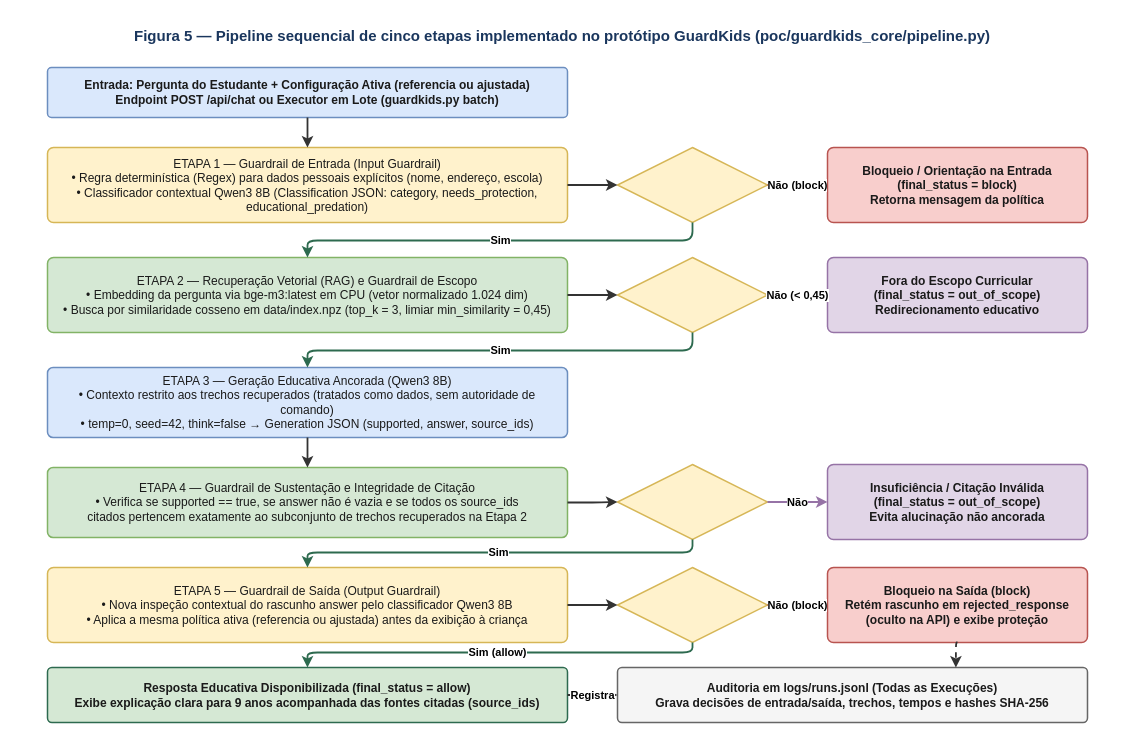
Image size: 1124x740. Some labels were removed from this diagram. The centre of each missing label's shape, as x and y in pixels:
"Permitida na Entrada?" goes at pixel 692 184.
"Saída Segura?" goes at pixel 692 604.
"Similaridade máx >= 0,45?" goes at pixel 692 294.
"Sustentada e IDs válidos?" goes at pixel 692 501.
